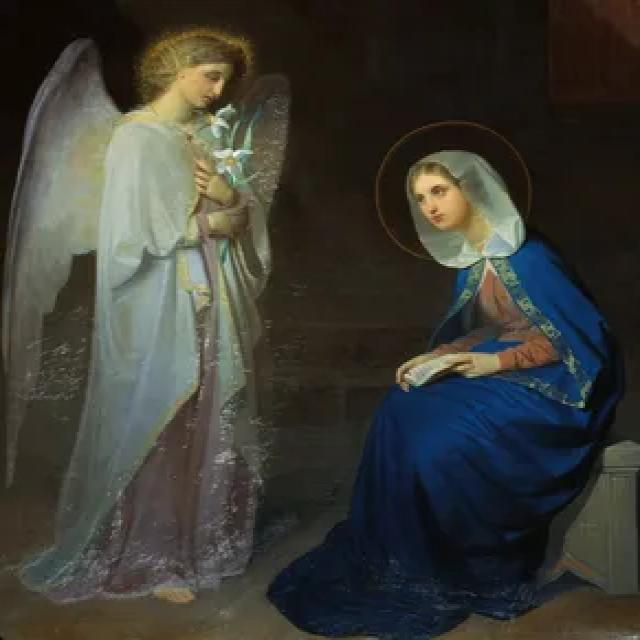mother of god: (310, 140, 640, 640)
